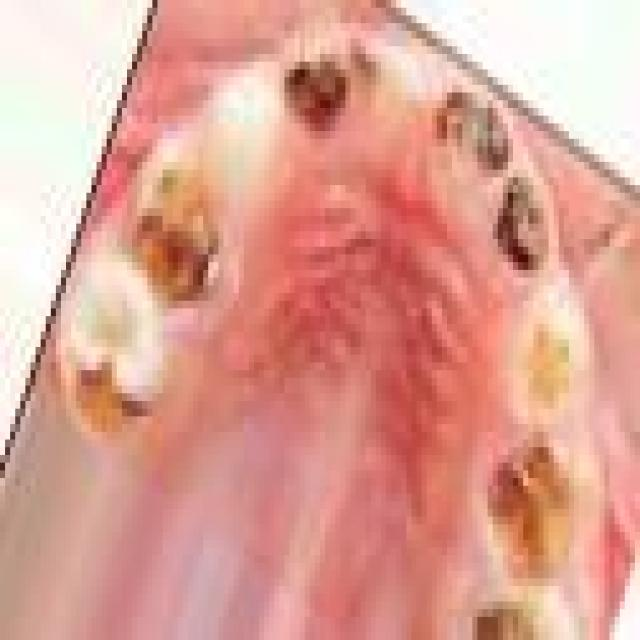caries: (468, 414, 584, 593), (120, 147, 234, 313), (62, 281, 166, 454), (271, 17, 396, 151), (422, 63, 515, 188), (478, 163, 559, 288)
